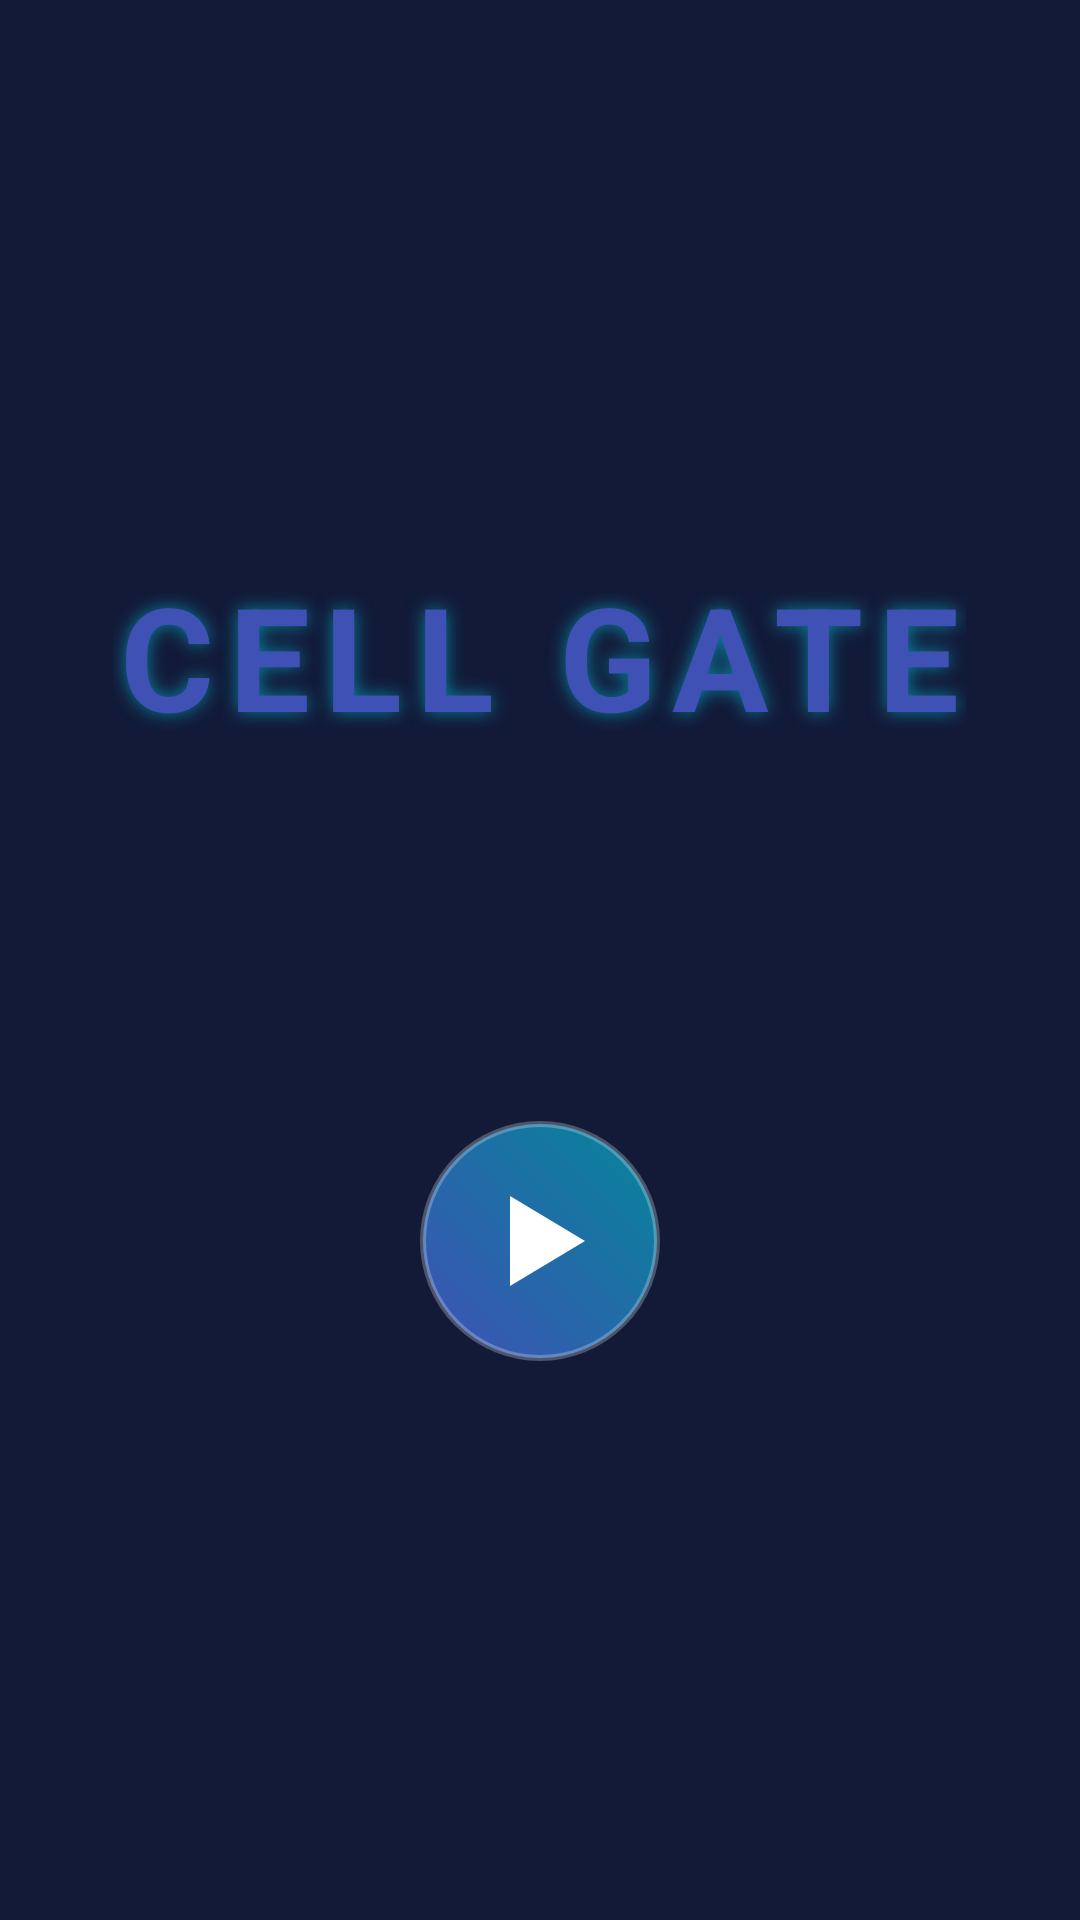

Icons on this 1080 x 1920 Android screen, each with the point to tap as [x,y]:
play: [540,1241]
